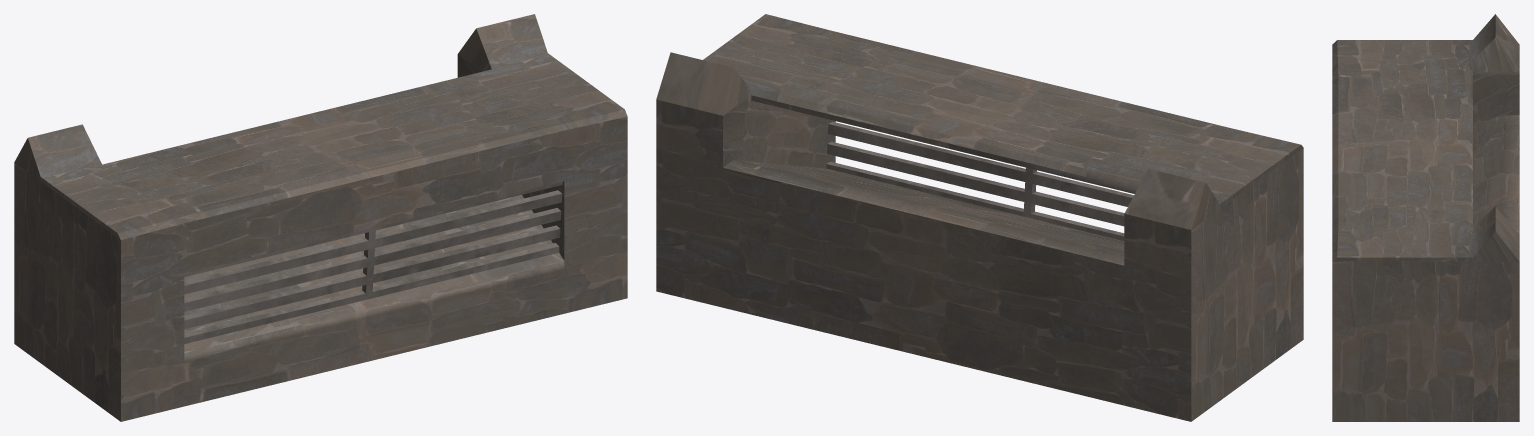
File: Vent.fbx
3 renders of one model, left to right at view 1: azimuth 30°, elevation 25°; view 2: azimuth 150°, elevation 25°; view 3: azimuth 270°, elevation 25°, orthographic. The views are drawn at different scales.
Parts seen in each view (by area): view 1: Vent_Vent; view 2: Vent_Vent; view 3: Vent_Vent.
Part boxes in pixels (bbox=[...]): Vent_Vent: bbox=[14, 14, 627, 421]; Vent_Vent: bbox=[656, 14, 1303, 421]; Vent_Vent: bbox=[1332, 14, 1519, 421].
Bounding box in the file's own units: 300 × 122 × 109.
Materials: 1 (1 with a texture image).
